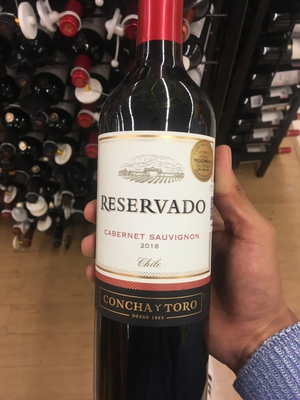reservado cabernet sauvignon: (88, 10, 231, 400)
